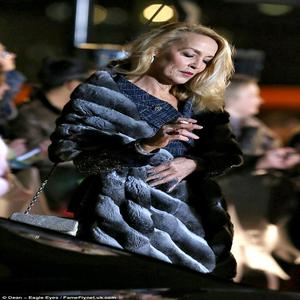cigarette: (181, 118, 197, 128)
